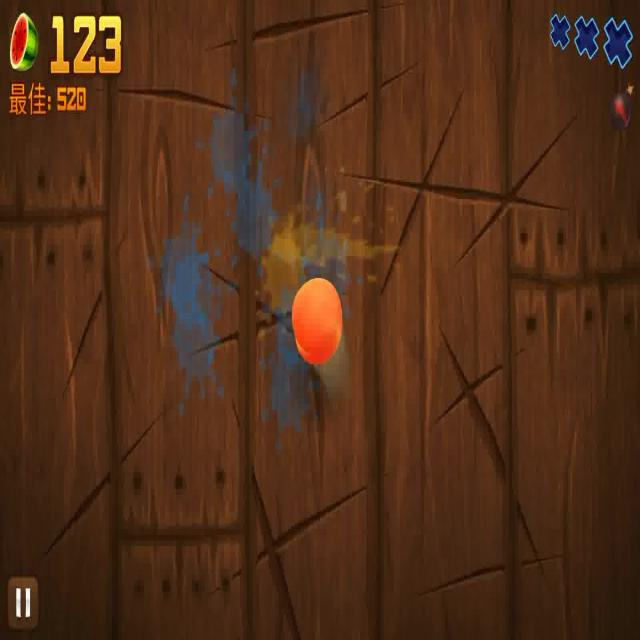fruit: (290, 278, 342, 363)
